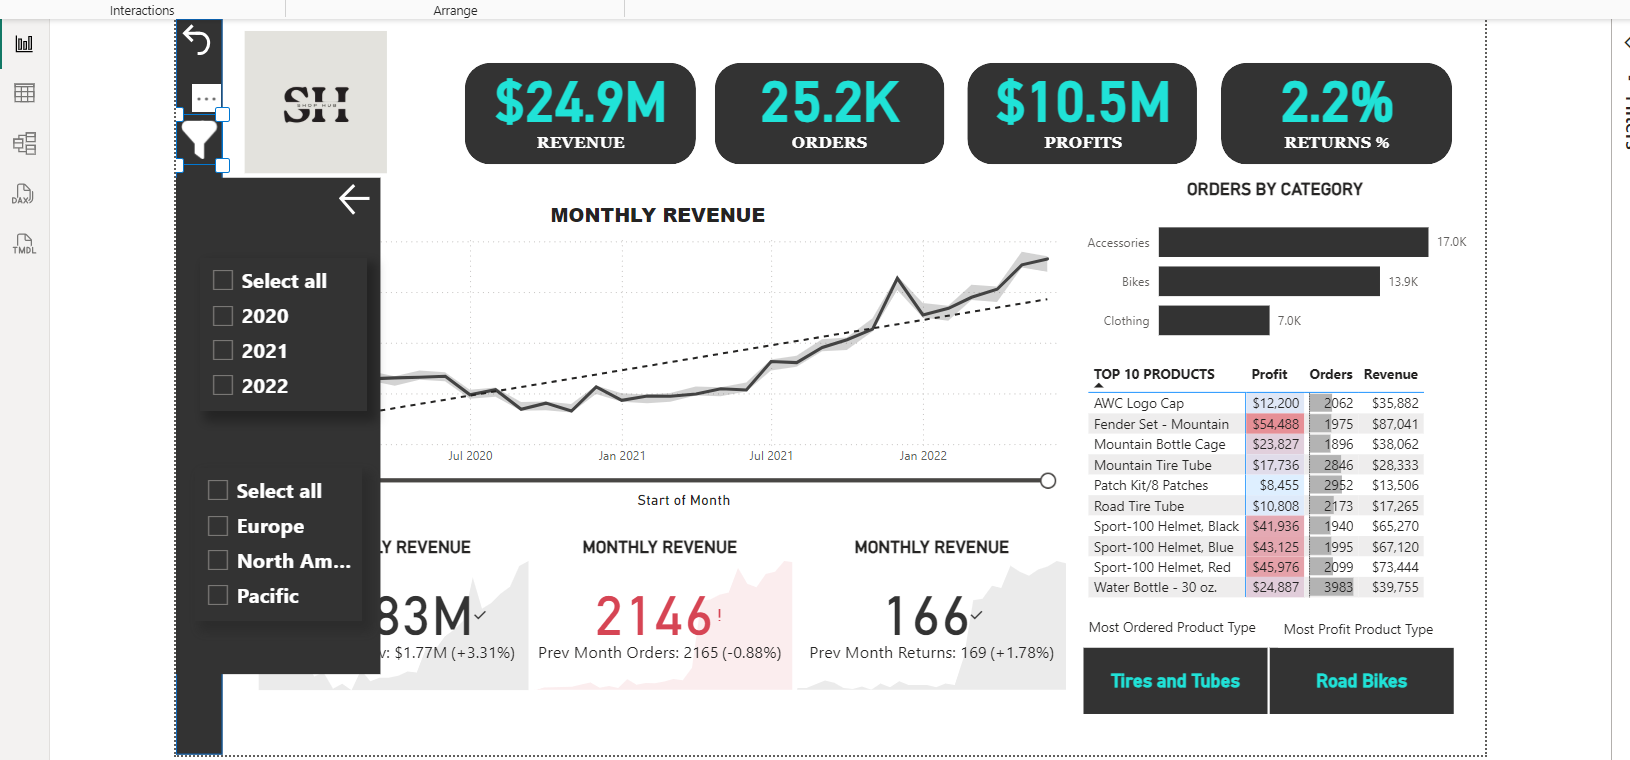

This screenshot's page, from the dashboard's own definition file:
{"tool":"powerbi","page":{"name":"Exec Dash","canvas":[1280,720],"ordinal":0},"visuals":[{"type":"image","box":[62.6,5.7,149.3,150.8],"z":0},{"type":"card","fields":{"Values":["TableMeasure.Total Revenue"]},"box":[295.9,33,200.5,100.3],"z":0,"group":"g2"},{"type":"group","id":"g1","title":"KPI CARDS","box":[283,42.7,965.7,99.6],"z":0,"group":"g3"},{"type":"shape","box":[527.6,42.7,224.7,99.6],"z":0,"group":"g1"},{"type":"actionButton","box":[0,601.4,45.7,40],"z":0,"group":"g4"},{"type":"shape","title":"Side Bar","box":[0,0,45.5,719.6],"z":1000},{"type":"group","id":"g2","title":"KPI VALUES","box":[295.9,33,940.4,100.3],"z":1000,"group":"g3"},{"type":"card","fields":{"Values":["TableMeasure.Returns Rate"]},"box":[1035.7,33,200.5,100.3],"z":1000,"group":"g2"},{"type":"shape","box":[1022.6,42.7,226.1,99.6],"z":1000,"group":"g1"},{"type":"actionButton","box":[0,547.1,45.7,40],"z":1000,"group":"g4"},{"type":"group","id":"g3","title":"KPIs","box":[283,33,965.7,109.2],"z":2000},{"type":"card","fields":{"Values":["TableMeasure.Total Profit"]},"box":[787.5,33,200.5,100.3],"z":2000,"group":"g2"},{"type":"shape","box":[283,42.7,226.1,99.6],"z":2000,"group":"g1"},{"type":"actionButton","box":[0,494.3,45.7,40],"z":2000,"group":"g4"},{"type":"card","fields":{"Values":["TableMeasure.total orders"]},"box":[539.2,33,200.5,100.3],"z":3000,"group":"g2"},{"type":"shape","box":[775.1,42.7,224.7,99.6],"z":3000,"group":"g1"},{"type":"lineChart","title":"MONTHLY REVENUE","fields":{"Category":["Calendar Lookup.Start of Month"],"Y":["TableMeasure.Total Revenue"]},"box":[61.2,177.8,820.6,305.8],"z":3000},{"type":"actionButton","box":[0,440,45.7,40],"z":3000,"group":"g4"},{"type":"kpi","title":"MONTHLY REVENUE","fields":{"TrendLine":["Calendar Lookup.Start of Month"],"Indicator":["TableMeasure.total orders"],"Goal":["TableMeasure.Previous  month Orders"]},"box":[337.1,506.3,271.6,155],"z":4000},{"type":"kpi","title":"MONTHLY REVENUE","fields":{"TrendLine":["Calendar Lookup.Start of Month"],"Indicator":["TableMeasure.Total Returns"],"Goal":["TableMeasure.Previous  month Returns"]},"box":[603,506.3,273.1,155],"z":5000},{"type":"kpi","title":"MONTHLY REVENUE","fields":{"Indicator":["TableMeasure.Total Revenue"],"TrendLine":["Calendar Lookup.Start of Month"],"Goal":["TableMeasure.Previous Month"]},"box":[75.7,505.7,274.3,155.7],"z":6000},{"type":"clusteredBarChart","title":"ORDERS BY CATEGORY ","fields":{"Category":["Product Categories Lookup.CategoryName"],"Y":["TableMeasure.total orders"]},"box":[881.8,156.4,386.8,174.9],"z":7000},{"type":"pivotTable","fields":{"Rows":["Product Lookup.ProductName"],"Values":["TableMeasure.Total Profit","TableMeasure.total orders","TableMeasure.Total Revenue"]},"box":[887.5,331.4,361.2,253.2],"z":8000},{"type":"card","fields":{"Values":["Min(Product Subcategories Lookup.SubcategoryName)"]},"box":[887.3,614.6,180.3,64.9],"z":9000},{"type":"textbox","box":[887.8,580.8,183.4,33],"z":10000},{"type":"card","fields":{"Values":["Min(Product Subcategories Lookup.SubcategoryName)"]},"box":[1070.5,614.6,180.3,64.9],"z":11000},{"type":"textbox","box":[1078,581.7,183.5,32.7],"z":12000},{"type":"actionButton","box":[0,0,45.2,40.4],"z":13000},{"type":"group","id":"g4","title":"Navigate Button","box":[0,440,45.7,201.4],"z":14000},{"type":"actionButton","box":[0,92.9,45.7,50],"z":15000}]}

Visuals, with their boxes on the page's 1280x720 design canvas (x1, y1, x2, y2). These are canvas units, not pixel positions in the 1630x760 screenshot, which may show the page scaled, cropped or inside an application window:
image: select_region(63, 6, 212, 156)
card - TableMeasure.Total Revenue: select_region(296, 33, 496, 133)
"KPI CARDS" group: select_region(283, 43, 1249, 142)
shape: select_region(528, 43, 752, 142)
actionButton: select_region(0, 601, 46, 641)
"Side Bar" shape: select_region(0, 0, 46, 720)
"KPI VALUES" group: select_region(296, 33, 1236, 133)
card - TableMeasure.Returns Rate: select_region(1036, 33, 1236, 133)
shape: select_region(1023, 43, 1249, 142)
actionButton: select_region(0, 547, 46, 587)
"KPIs" group: select_region(283, 33, 1249, 142)
card - TableMeasure.Total Profit: select_region(788, 33, 988, 133)
shape: select_region(283, 43, 509, 142)
actionButton: select_region(0, 494, 46, 534)
card - TableMeasure.total orders: select_region(539, 33, 740, 133)
shape: select_region(775, 43, 1000, 142)
"MONTHLY REVENUE" lineChart: select_region(61, 178, 882, 484)
actionButton: select_region(0, 440, 46, 480)
"MONTHLY REVENUE" kpi: select_region(337, 506, 609, 661)
"MONTHLY REVENUE" kpi: select_region(603, 506, 876, 661)
"MONTHLY REVENUE" kpi: select_region(76, 506, 350, 661)
"ORDERS BY CATEGORY " clusteredBarChart: select_region(882, 156, 1269, 331)
pivotTable - Product Lookup.ProductName x TableMeasure.Total Profit: select_region(888, 331, 1249, 585)
card - Min(Product Subcategories Lookup.SubcategoryName): select_region(887, 615, 1068, 680)
textbox: select_region(888, 581, 1071, 614)
card - Min(Product Subcategories Lookup.SubcategoryName): select_region(1070, 615, 1251, 680)
textbox: select_region(1078, 582, 1262, 614)
actionButton: select_region(0, 0, 45, 40)
"Navigate Button" group: select_region(0, 440, 46, 641)
actionButton: select_region(0, 93, 46, 143)
